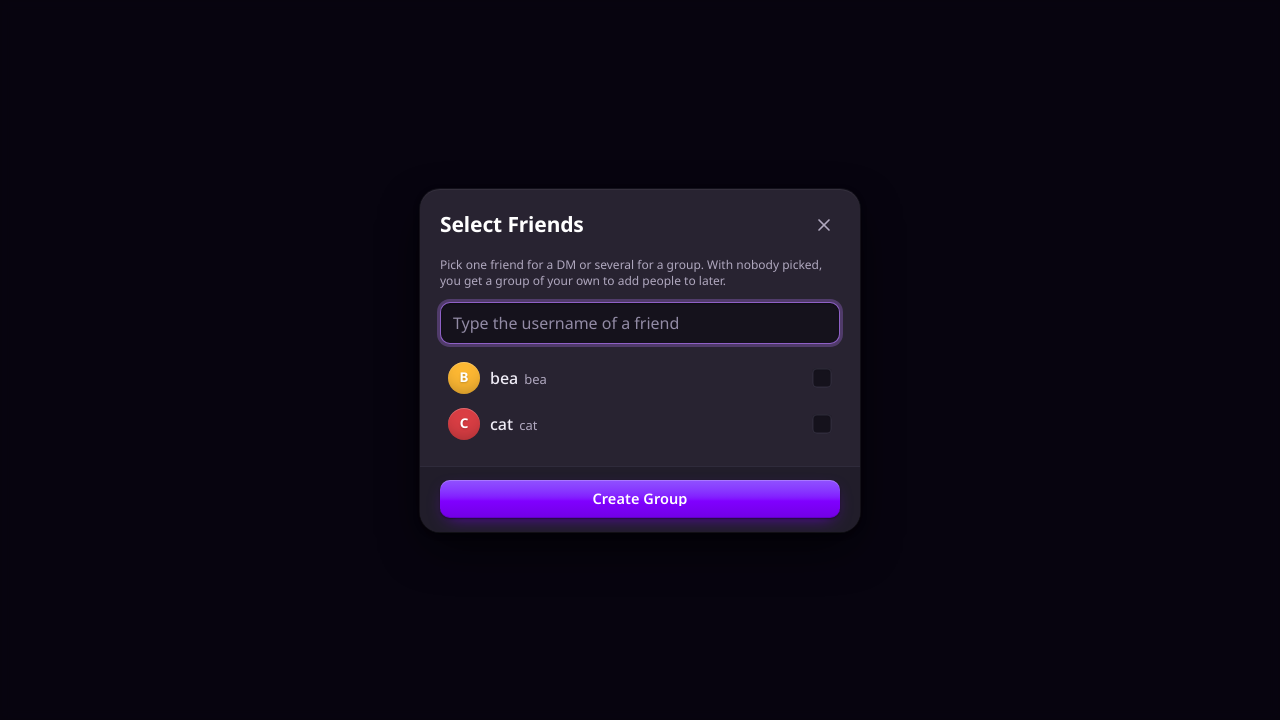
Test: CreateDMModal and friends who join groups only from a link › holds a group back while a Link Only friend picked first is in it
The image size is (1280, 720).
Click the checkbox labelled "C cat cat" at (822, 424), box top-left (812, 414), bottom-right (832, 434)
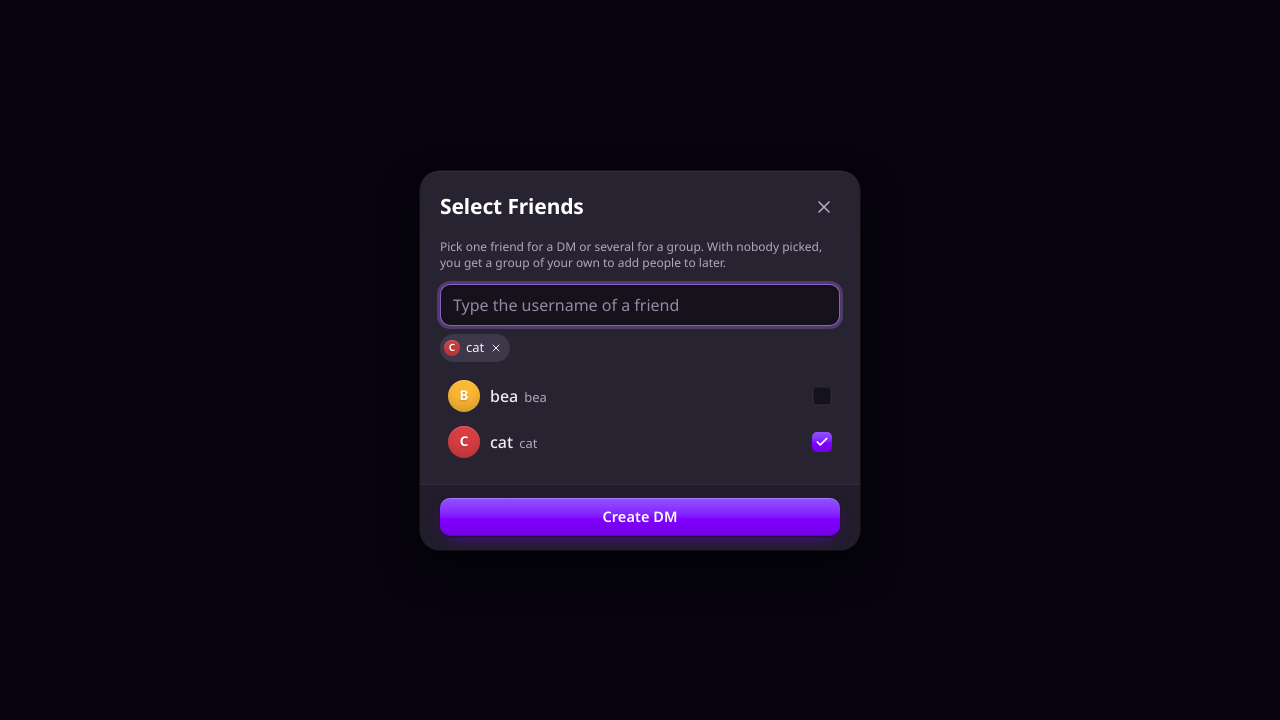
Expected: the button with test id "create-dm-submit" is enabled, top-left (440, 498), bottom-right (840, 536)
Click the checkbox labelled "B bea bea" at (822, 396), box top-left (812, 386), bottom-right (832, 406)
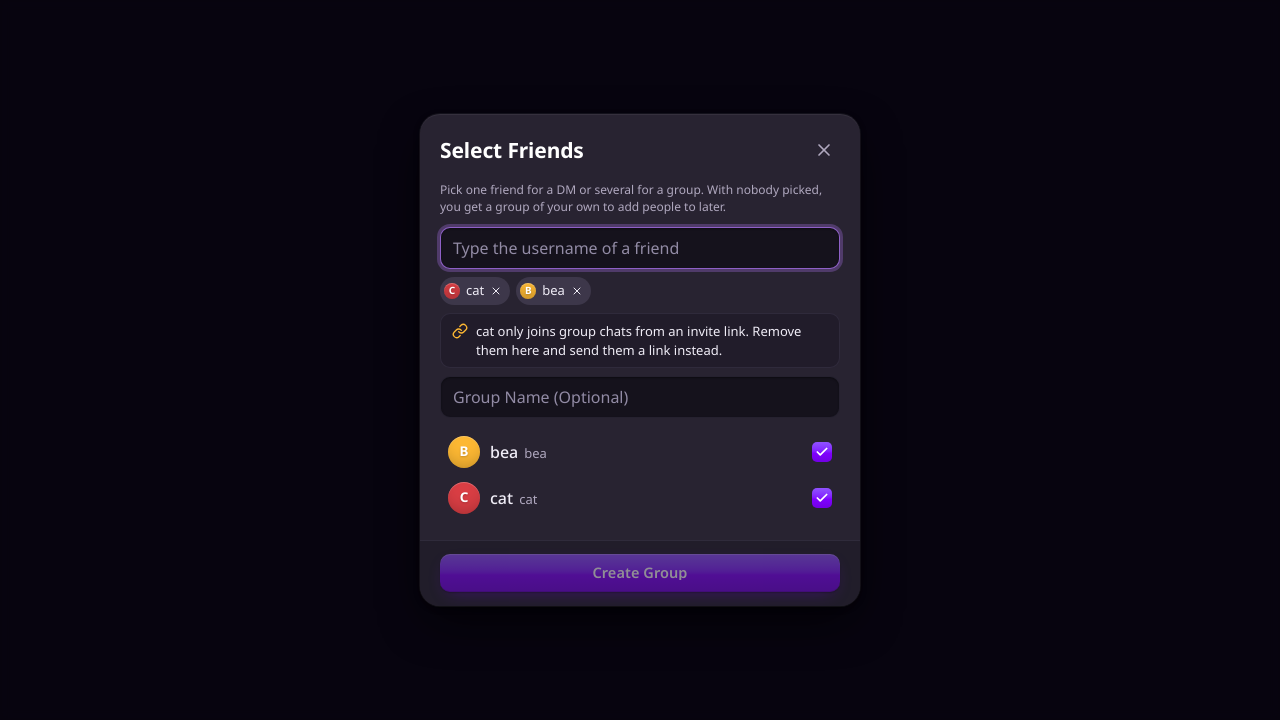
Expected: the button with test id "create-dm-submit" is disabled, top-left (440, 554), bottom-right (840, 592)
Click the checkbox labelled "C cat cat" at (822, 498), box top-left (812, 488), bottom-right (832, 508)
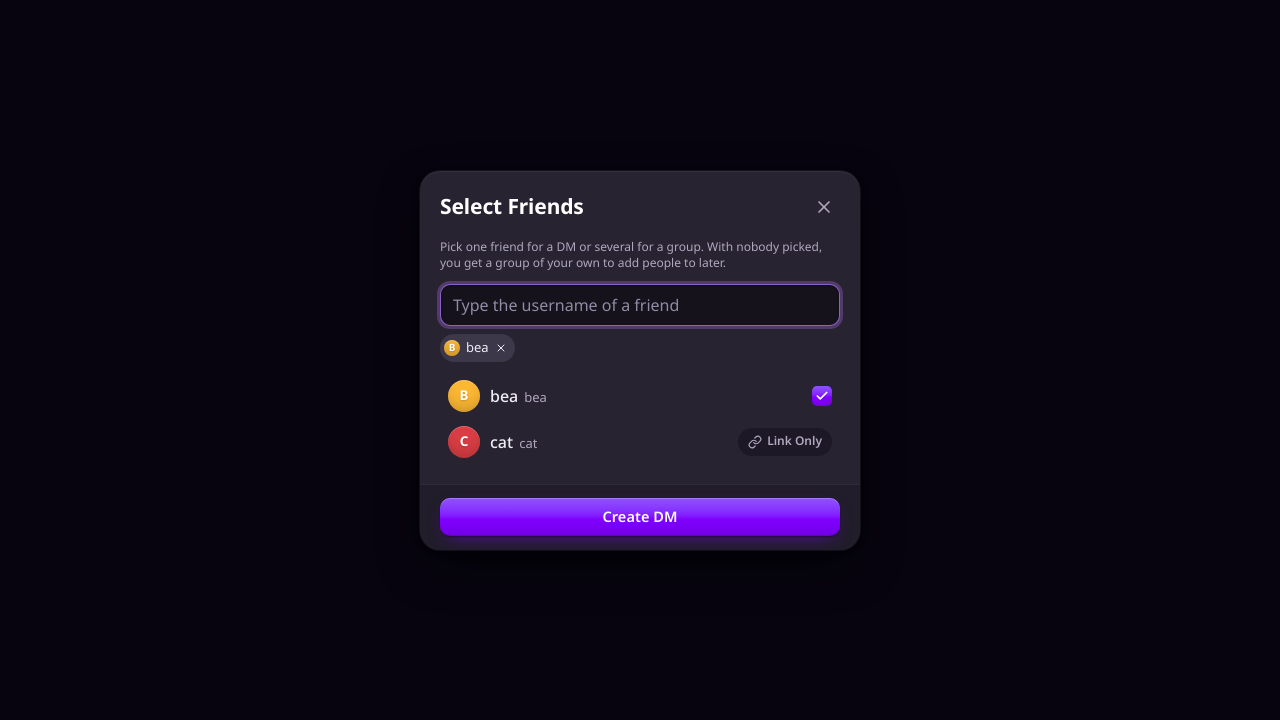
Expected: the message with test id "link-only-held" is gone
Expected: the button with test id "create-dm-submit" is enabled, top-left (440, 498), bottom-right (840, 536)
